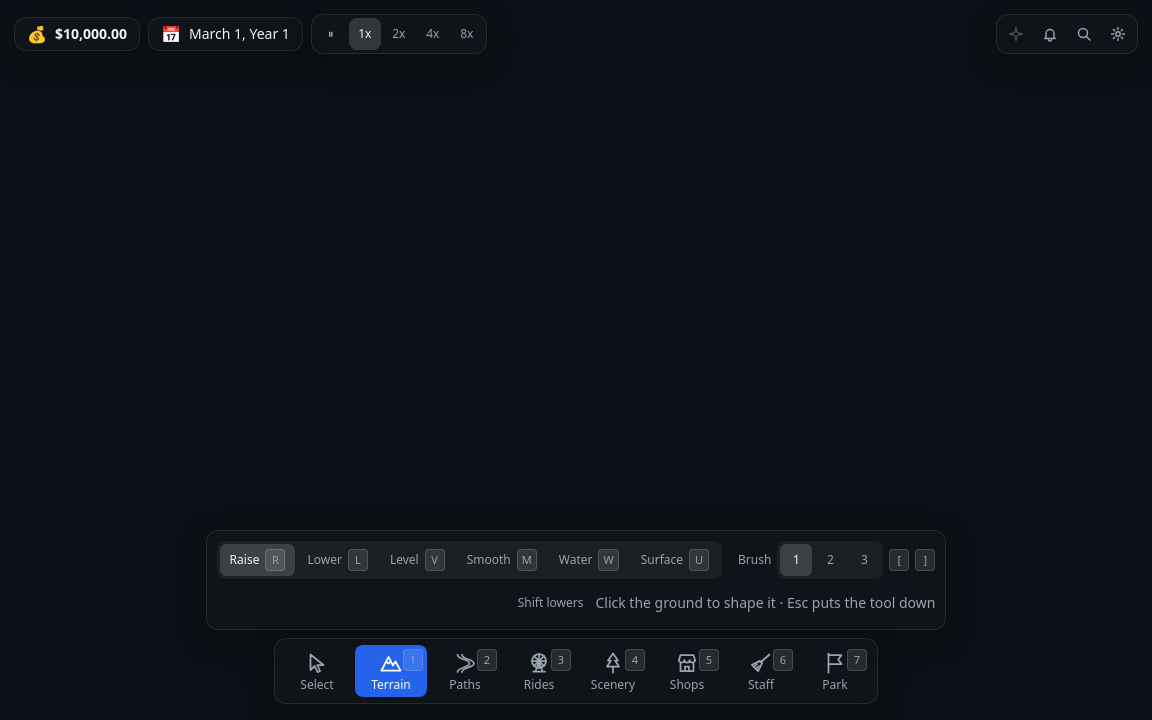
it: a click on the map runs what the tray has in hand › shows what a click was charged in the tray
Press the mouse on the drawing named "Park view" at (576, 360), box [0,0,1151,719]
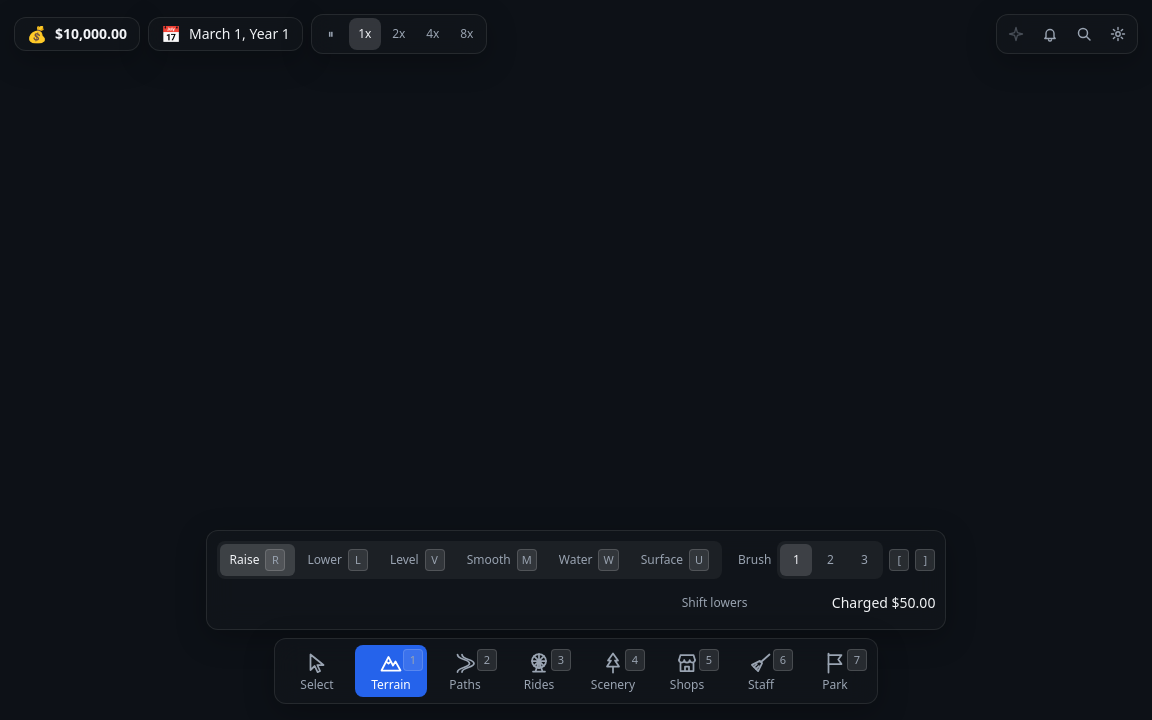
Check: the element named "Last charge" reads "Charged $50.00", box [832,593,935,612]
